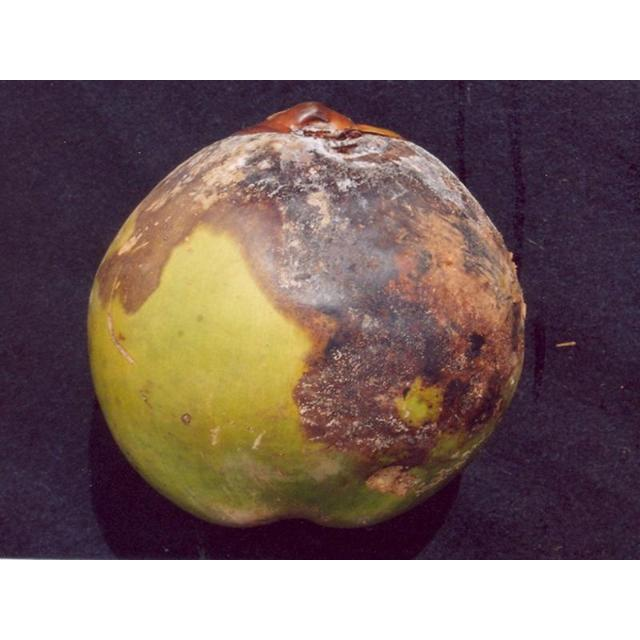damaged: (86, 102, 529, 533)
